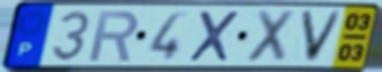3: (48, 9, 94, 63)
4: (146, 10, 187, 63)
R: (87, 8, 141, 63)
V: (298, 8, 346, 65)
X: (243, 8, 299, 65), (186, 9, 242, 64)
